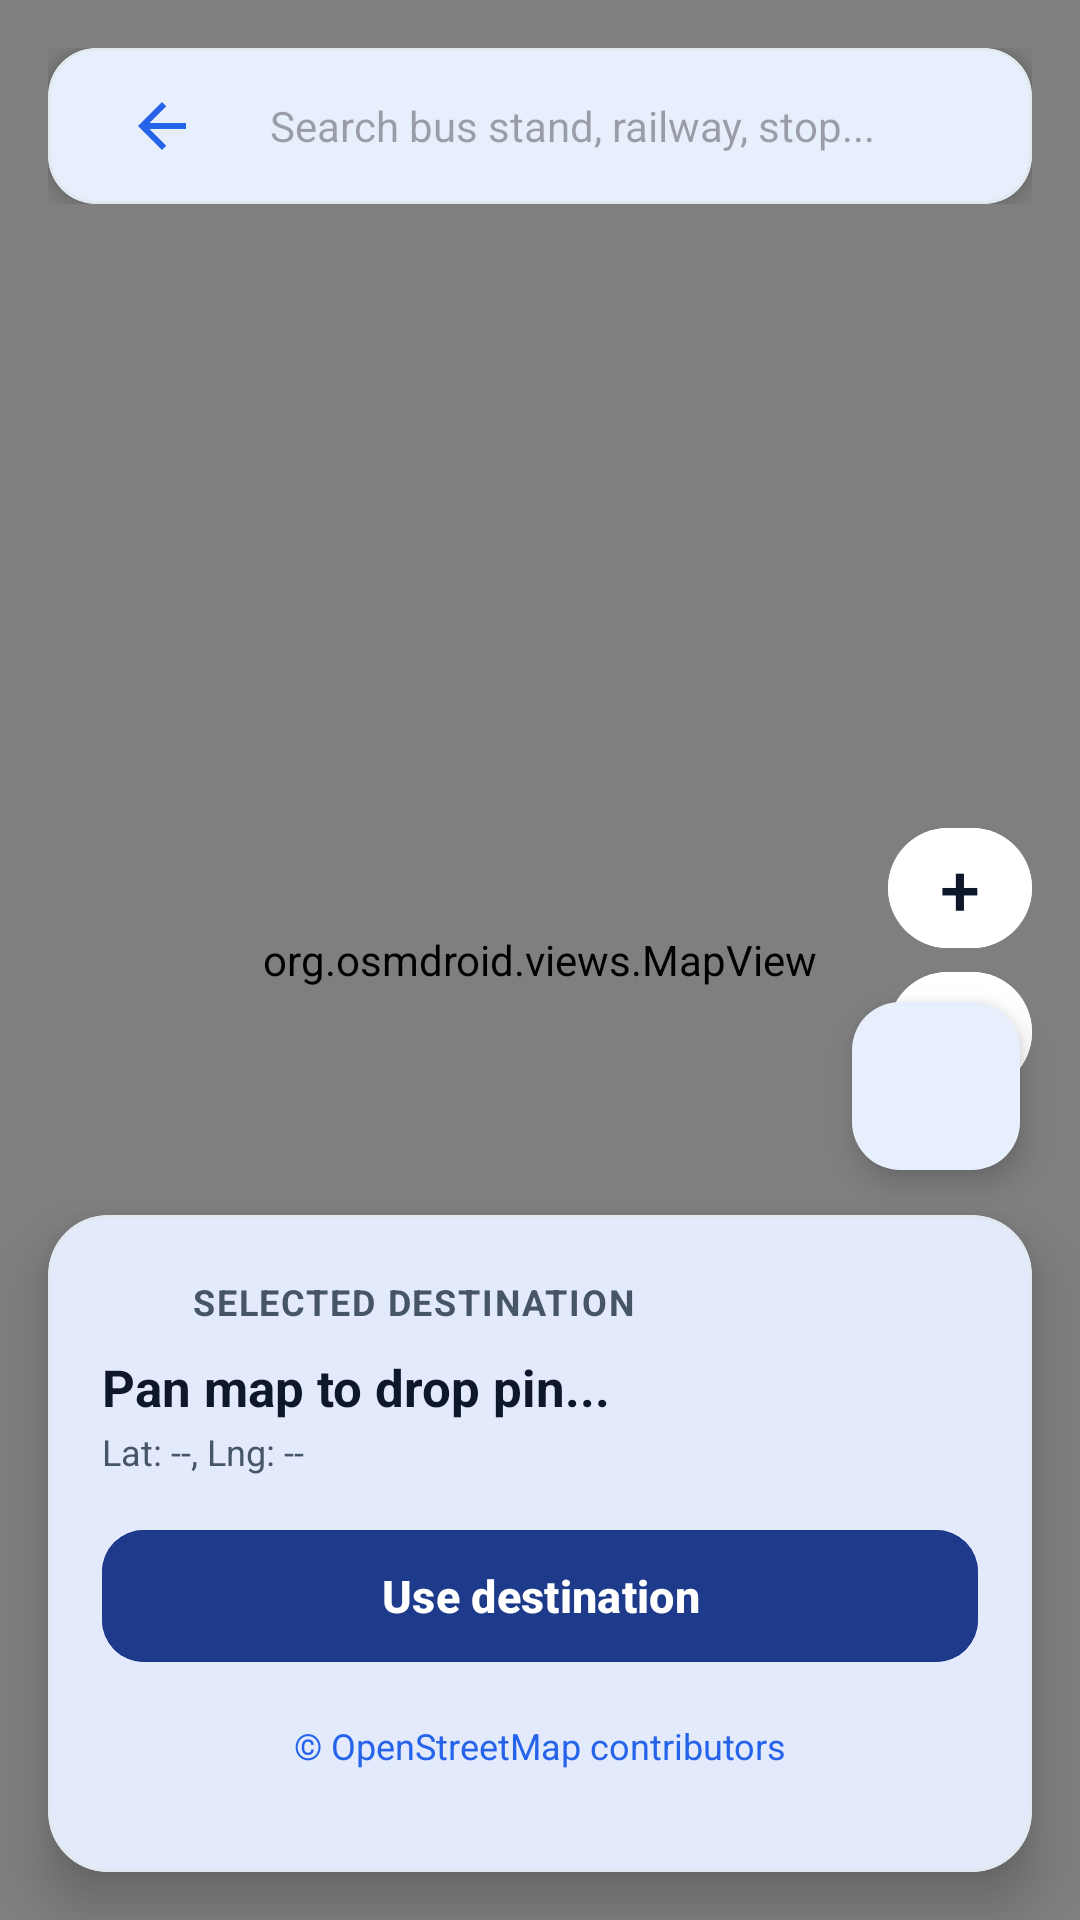

Screen size 1080px×1920px. Icon name, then its box in pixels as (x1, y1, x2, y2):
Back to destination setup: (138, 102, 186, 150)
